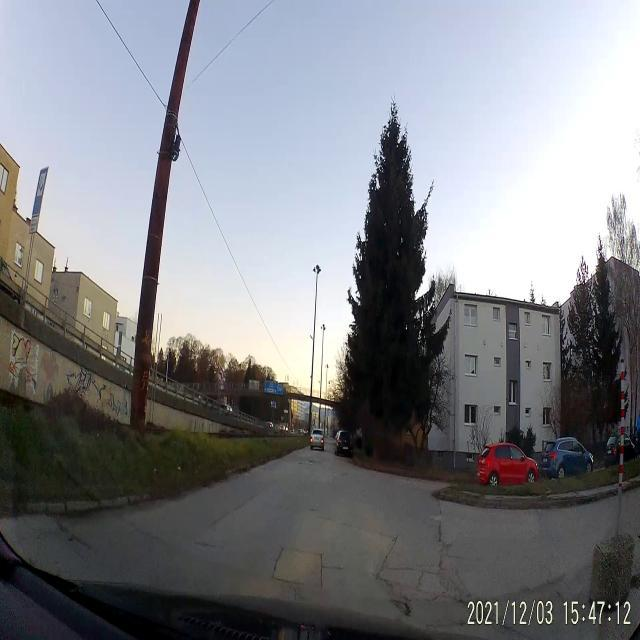Pothole: (386, 590, 414, 620), (193, 532, 218, 554)
